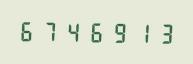four: (61, 19, 82, 43)
nine: (105, 20, 126, 44)
one: (127, 20, 148, 44)
seven: (39, 19, 60, 43)
six: (83, 19, 104, 44), (17, 18, 38, 42)
three: (149, 20, 170, 45)
